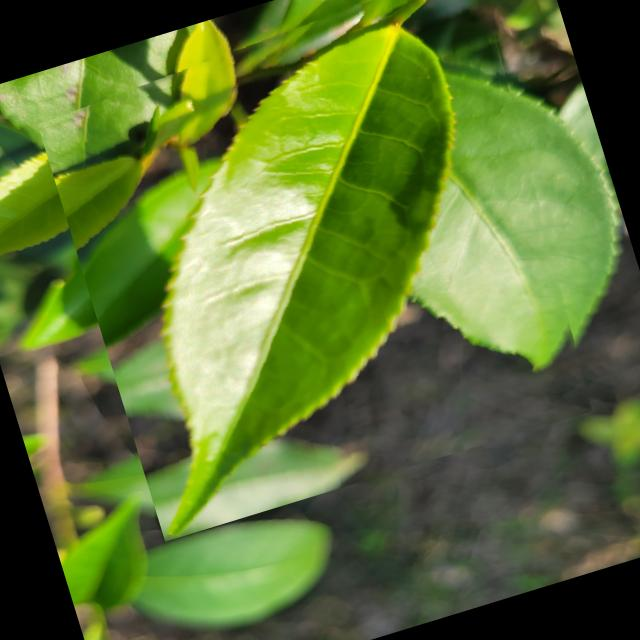Category B(2-4 days): (28, 0, 610, 541)
